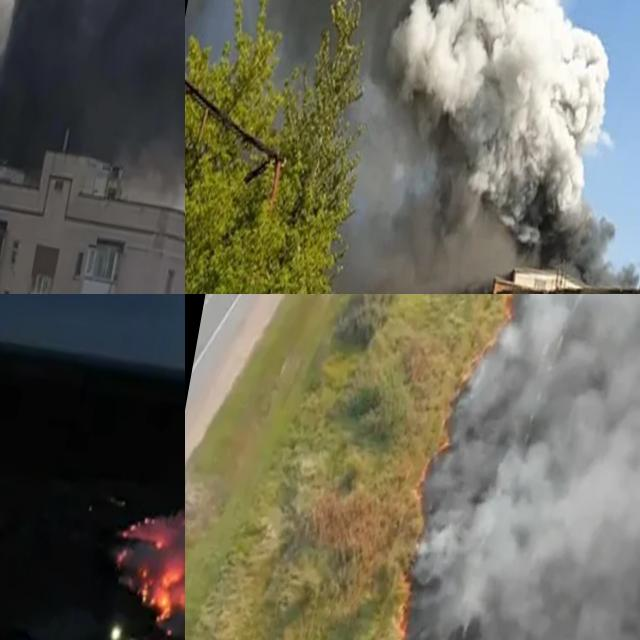smoke: (199, 0, 640, 294), (388, 294, 640, 640), (0, 0, 185, 231), (55, 415, 185, 640)
